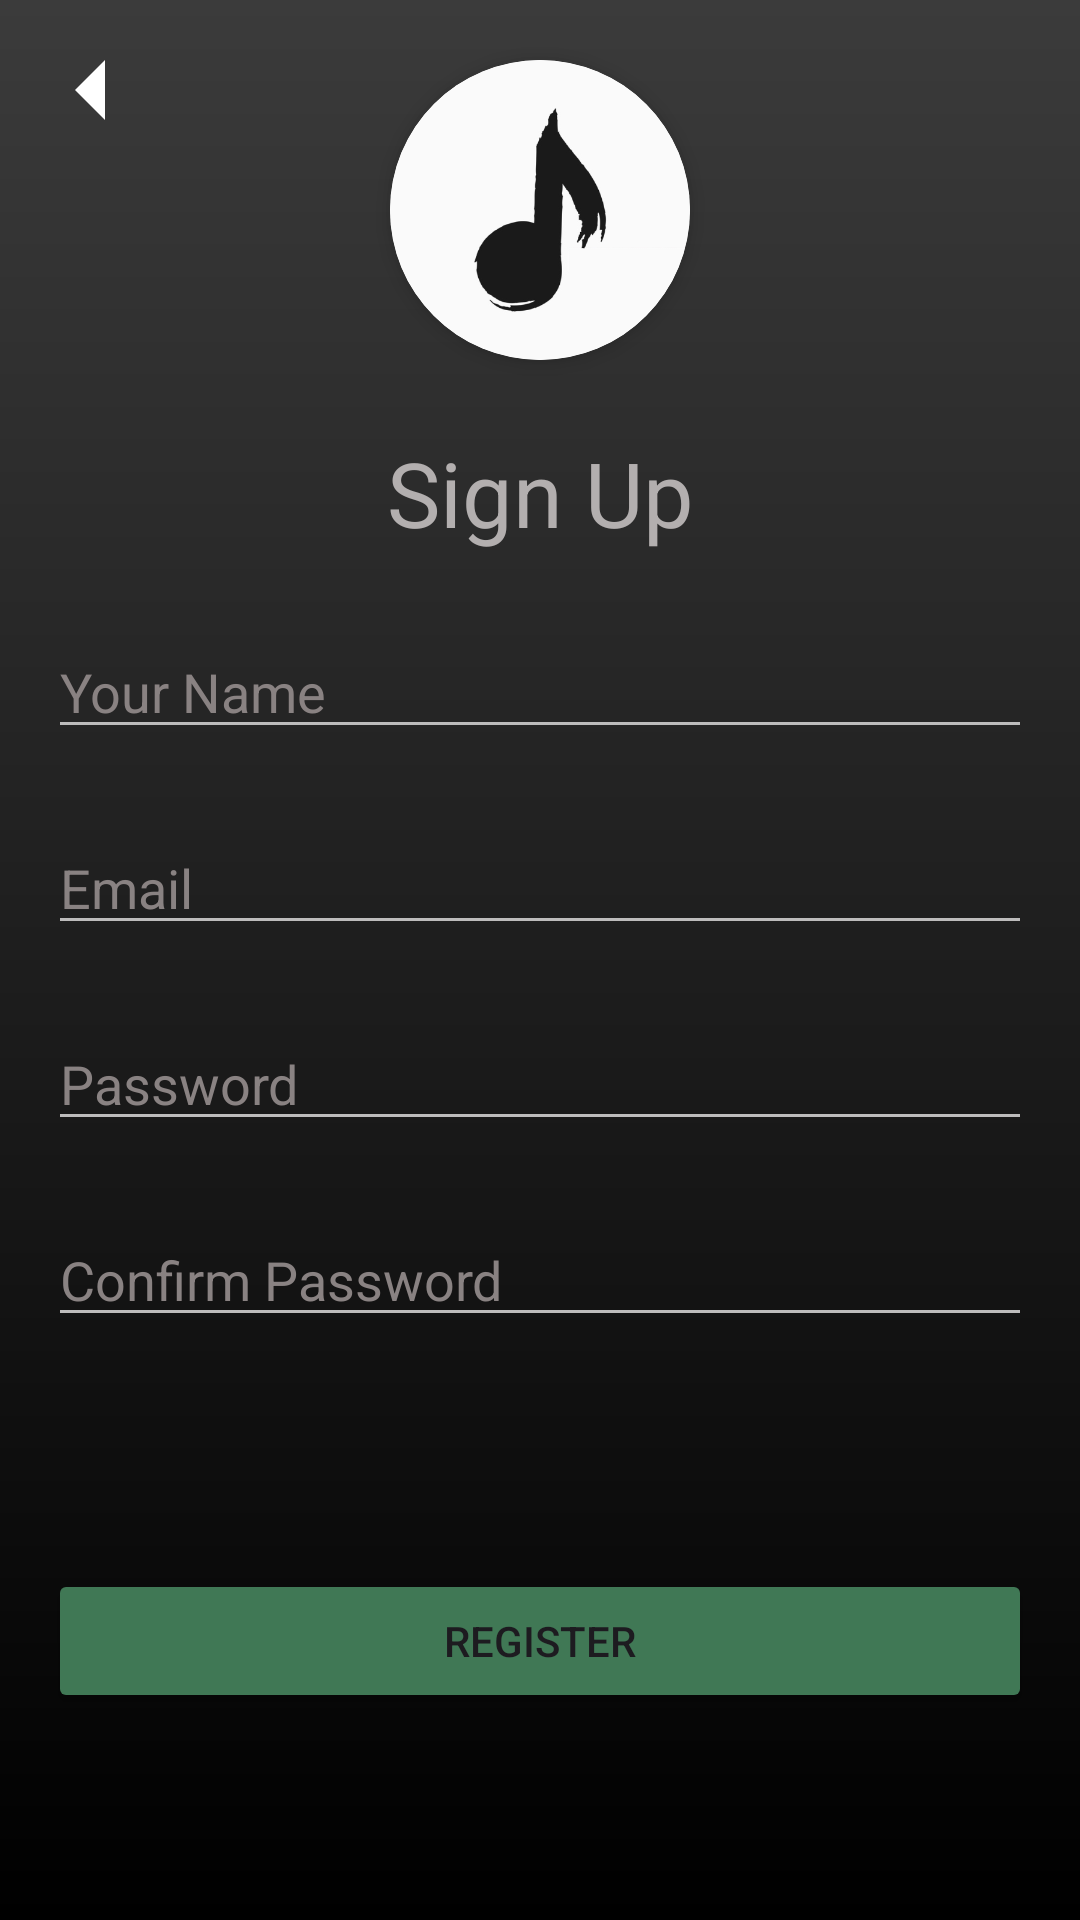

Where to tap for icons on this 1080*1920 app screen, as (x,y):
arrow: (90,90)
